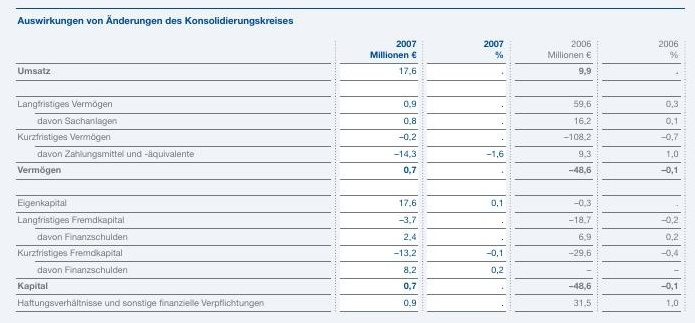table: (0, 0, 695, 323)
